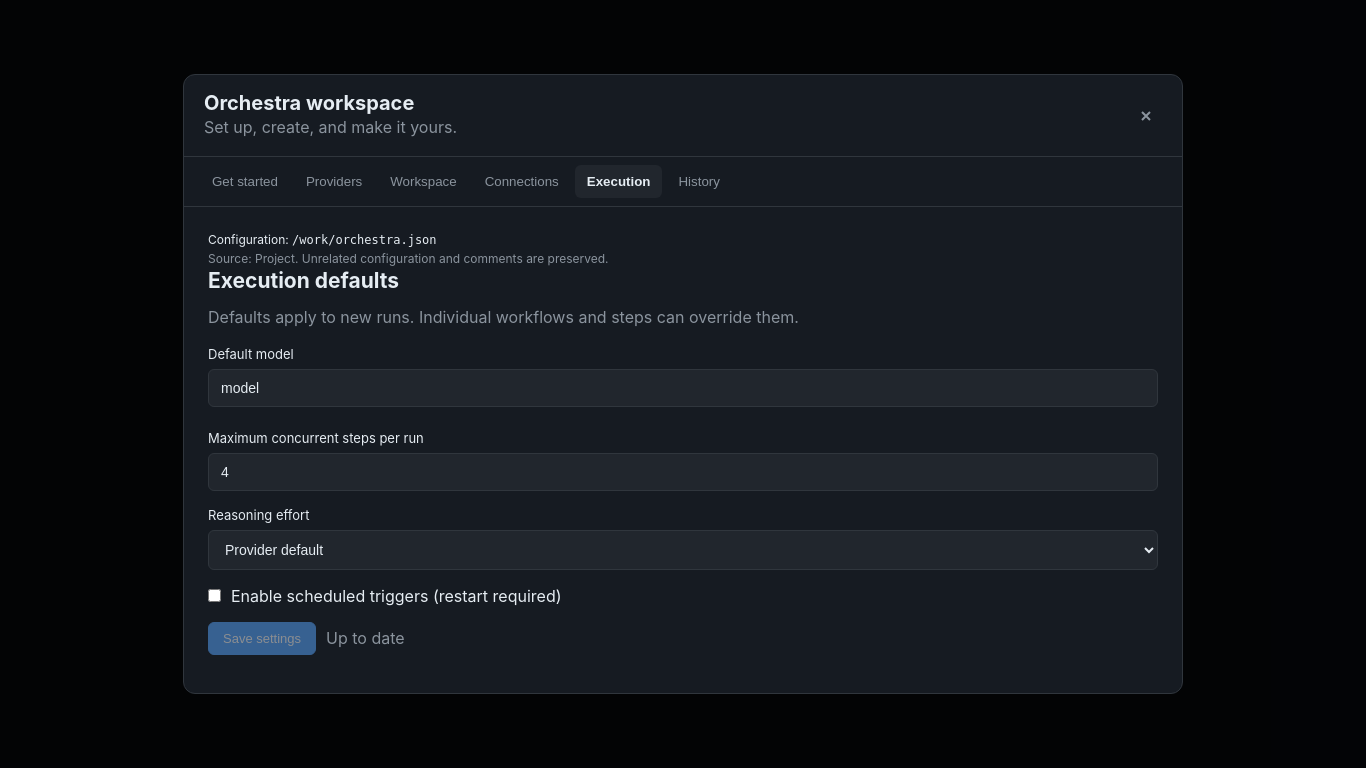
it: workspace onboarding › sends only edited settings with the revision and surfaces restart information
Replace the text in the number field labelled "Maximum concurrent steps per run" with "2". click: (683, 472)
box: [208,453,1158,491]
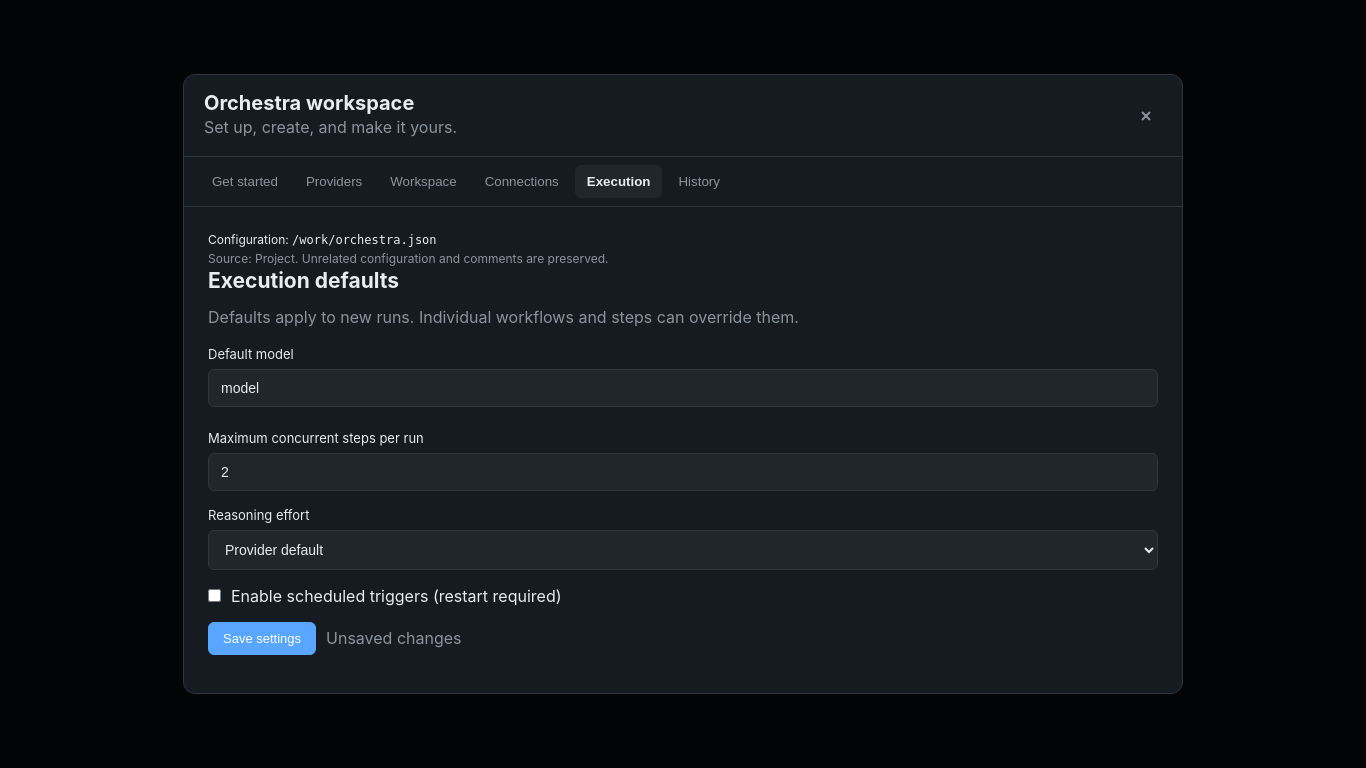
Click the button "Save settings". click: (262, 638)
box: [208,622,316,655]
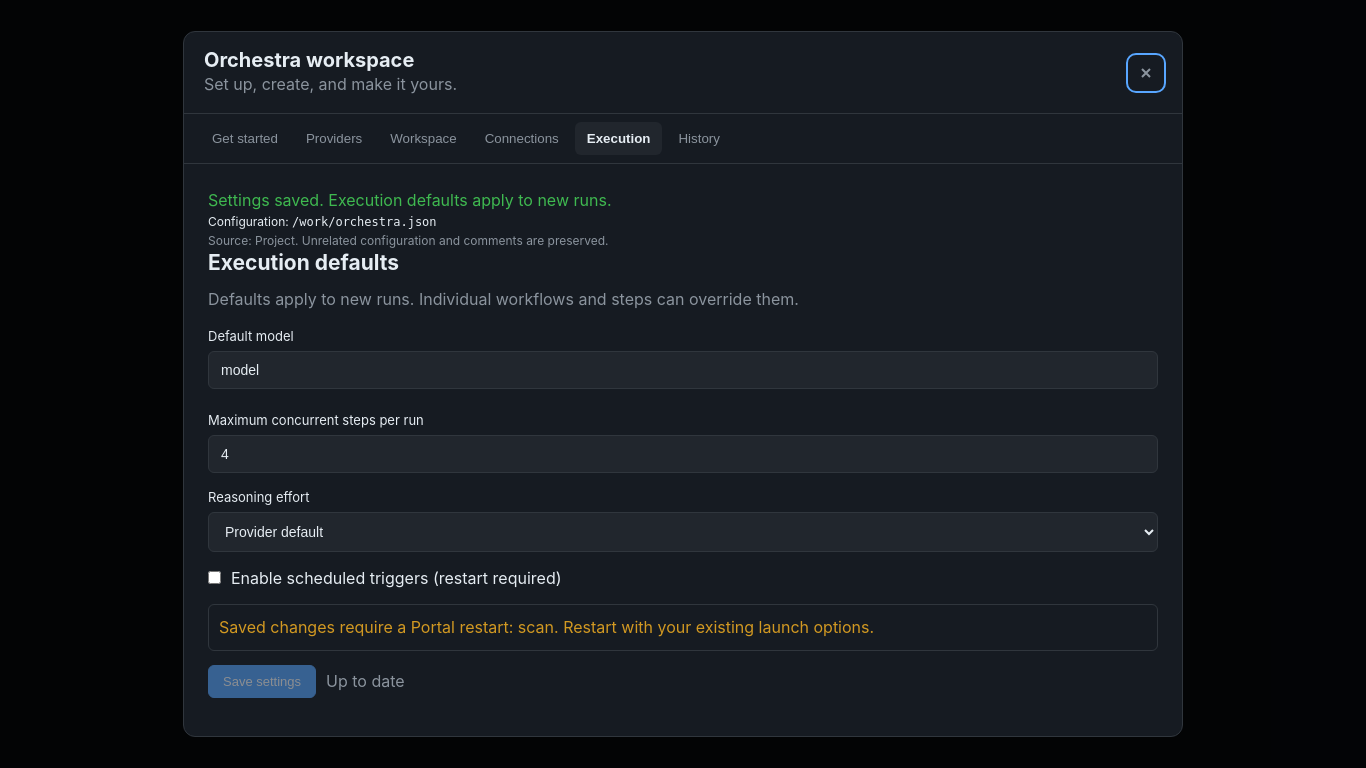
Result: the text "Saved changes require a Portal restart" is shown at [219,617,518,637]
